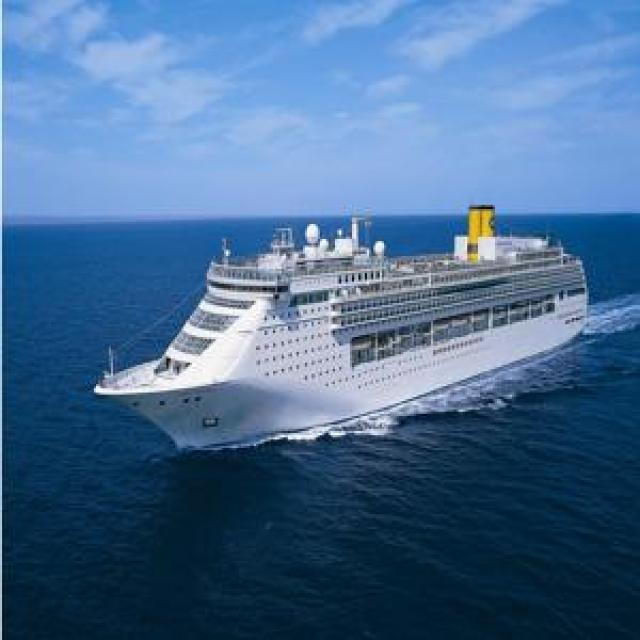passenger ship: (91, 187, 605, 449)
